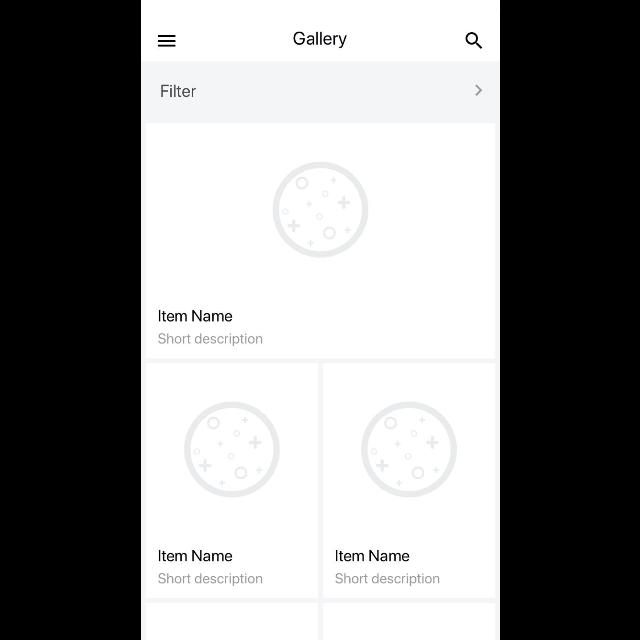icon: (466, 32, 482, 49), (157, 35, 175, 47), (474, 84, 482, 96)
image: (184, 400, 280, 498), (272, 162, 368, 256), (361, 402, 457, 496)
panel: (144, 123, 496, 360), (145, 362, 319, 600), (322, 363, 496, 599)
text: (158, 333, 262, 347), (158, 572, 262, 586), (335, 572, 439, 586), (157, 310, 231, 322), (158, 550, 232, 562), (335, 549, 409, 561), (293, 32, 347, 48), (160, 84, 196, 98)
